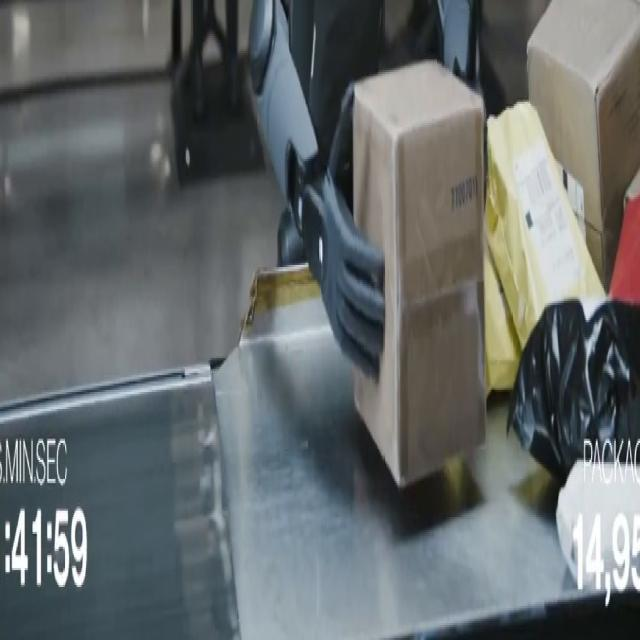package: (353, 62, 485, 487), (528, 0, 639, 288), (486, 102, 603, 347), (508, 299, 639, 483), (556, 456, 639, 595), (485, 246, 519, 396), (609, 195, 639, 305), (625, 170, 639, 209)
